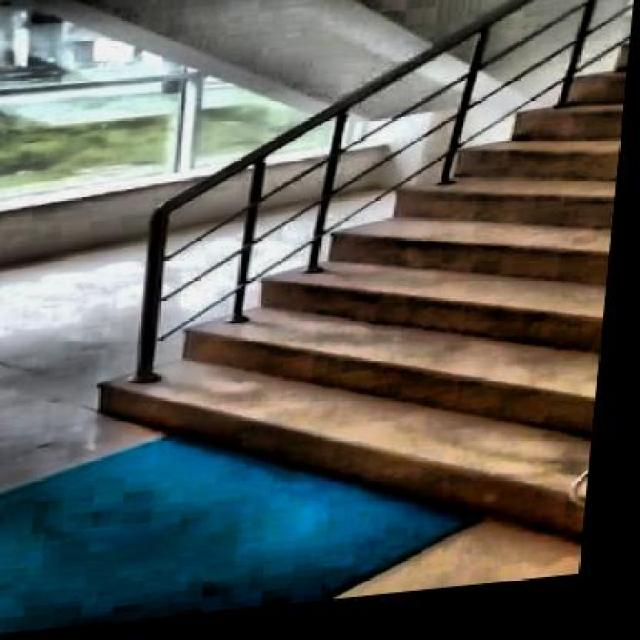stair: (75, 51, 631, 611)
